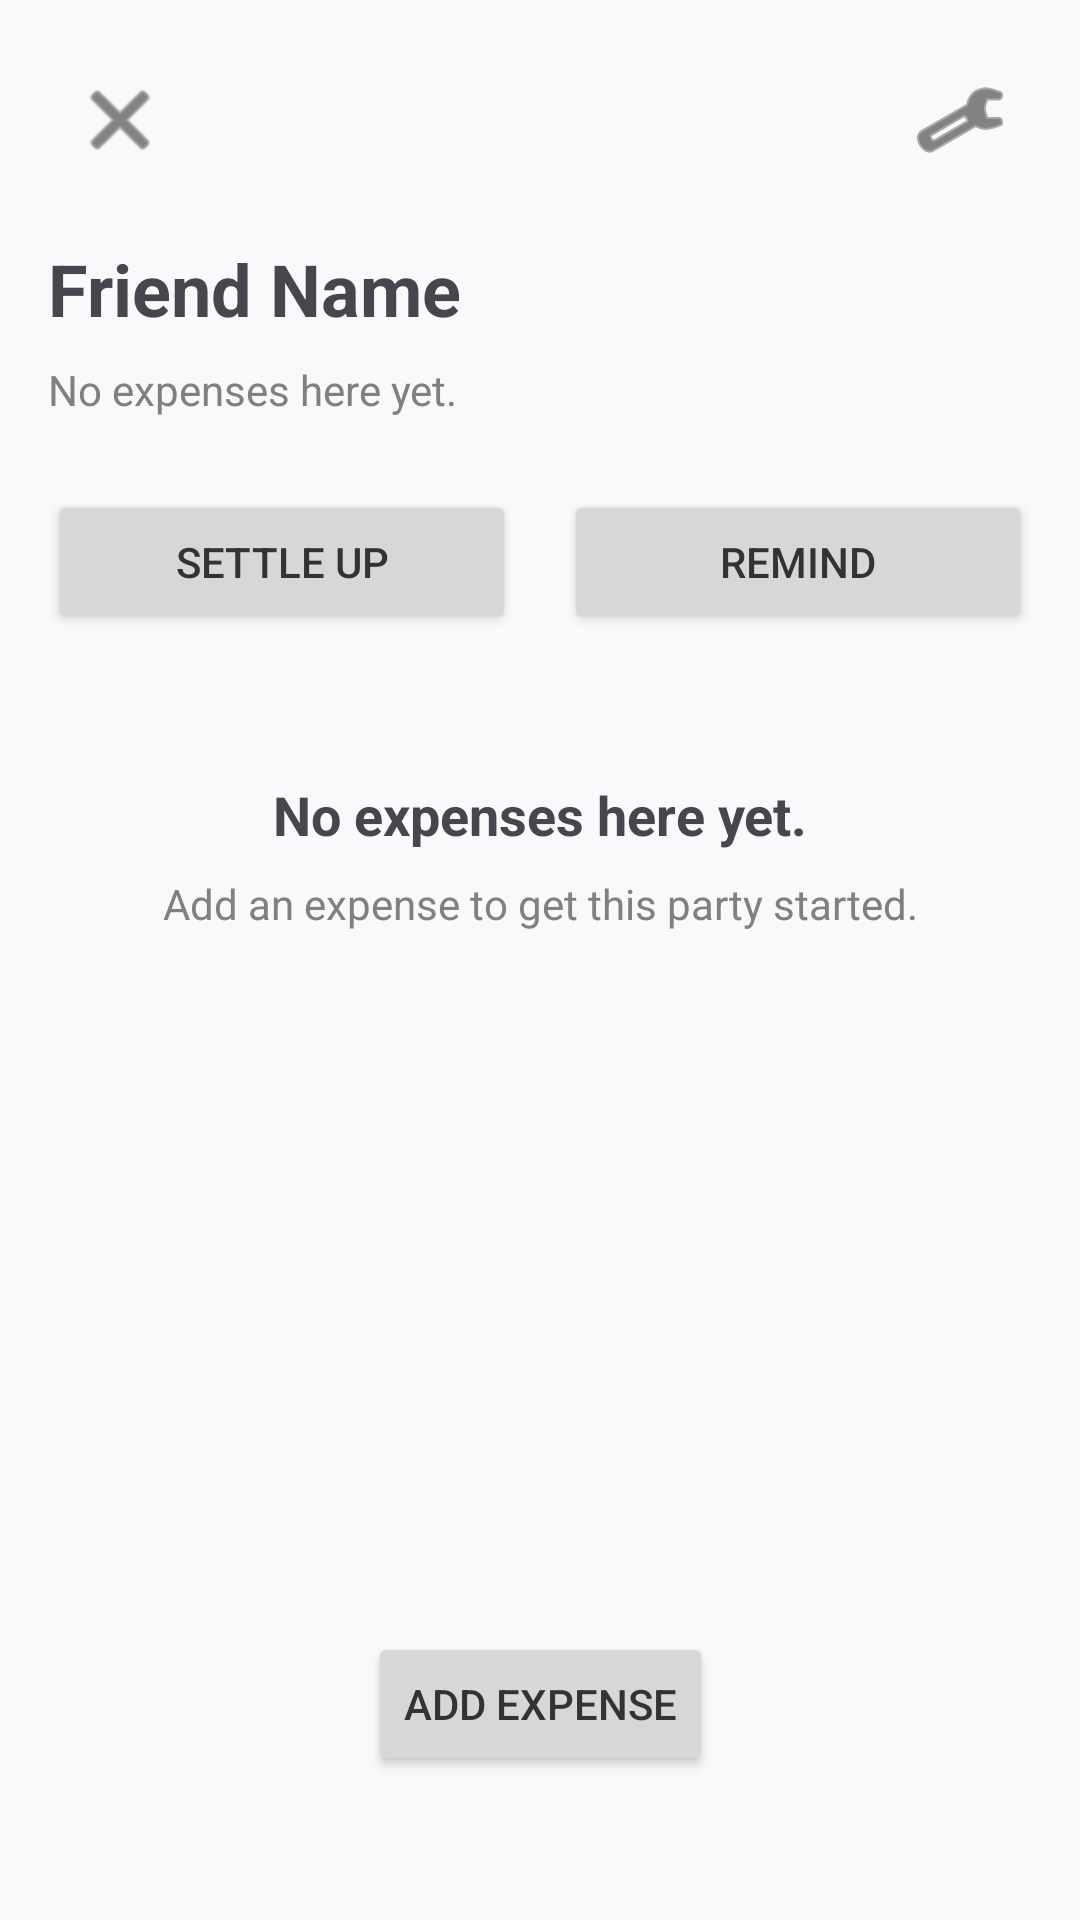

Where icons sit on this 1080x1920 app screen, as (x1, y1, x2, y2):
Settings: (917, 87, 1003, 153)
